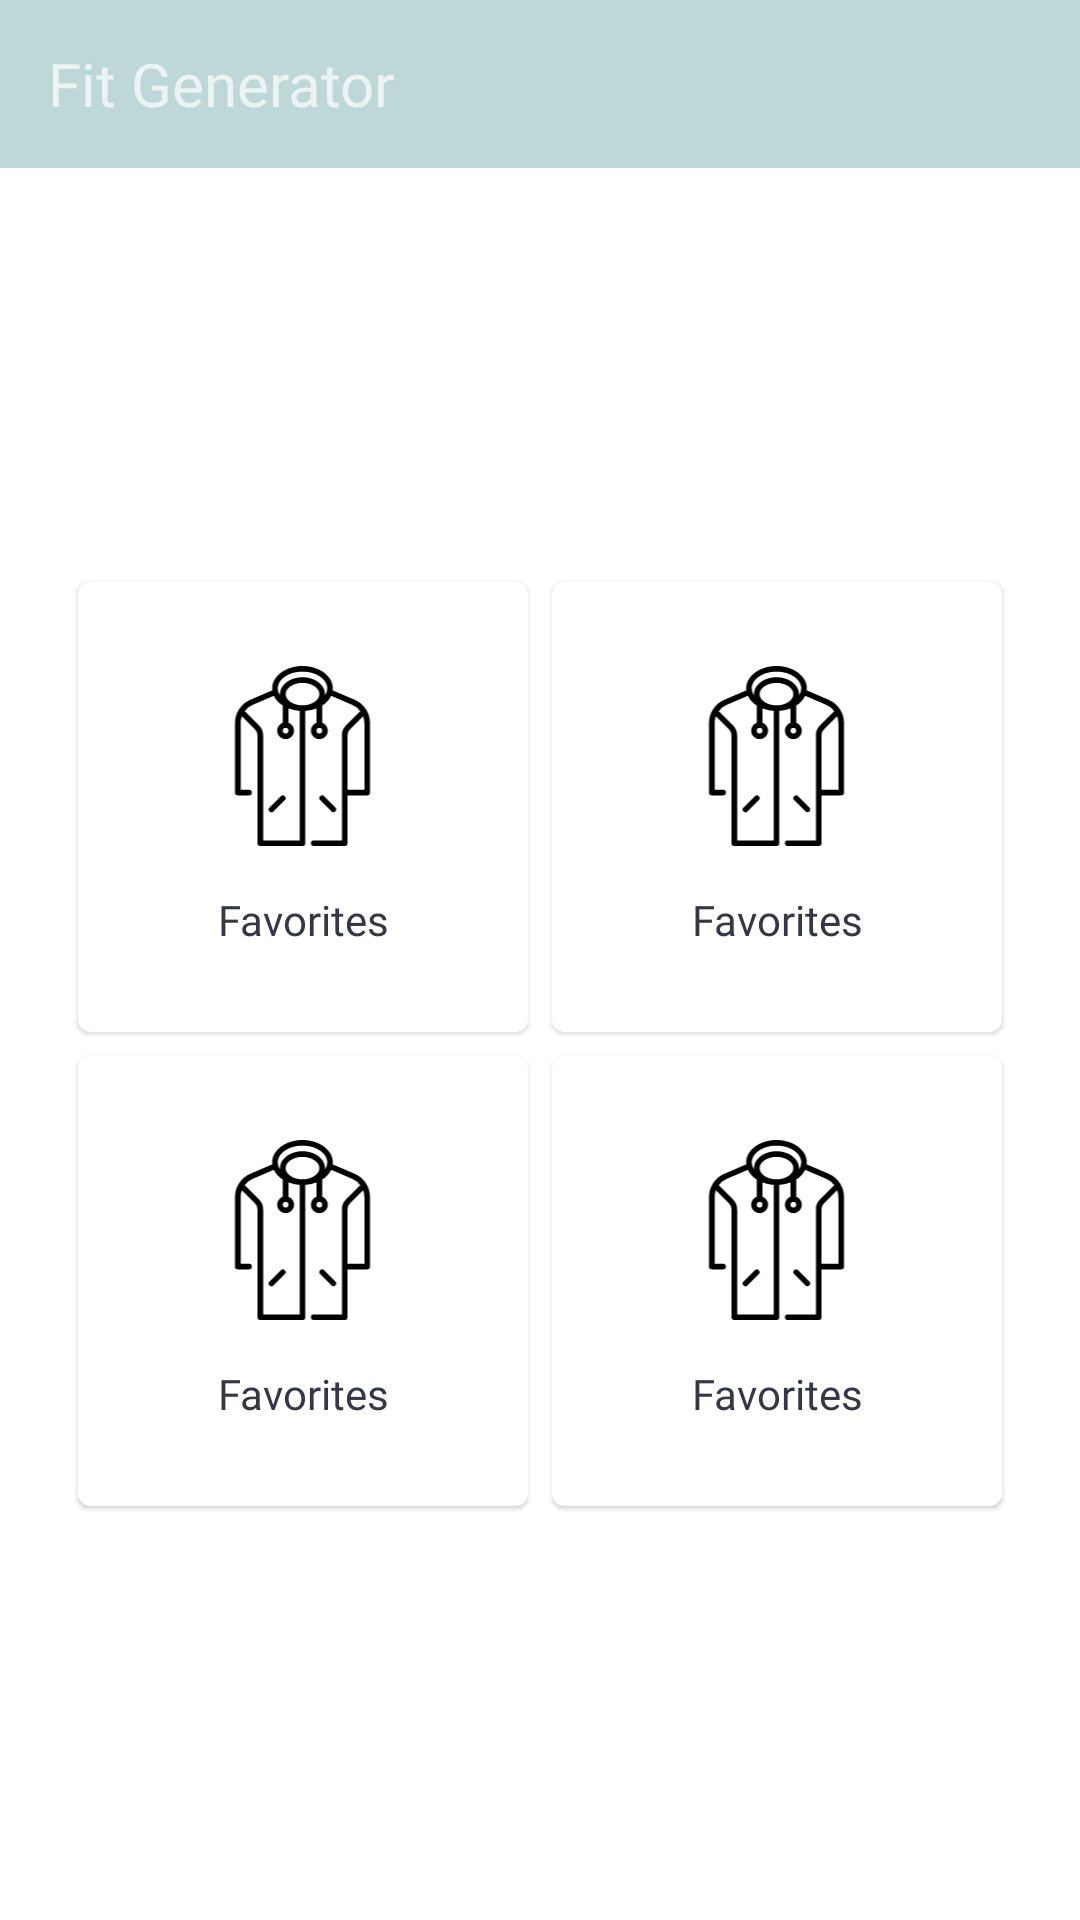

Screen size 1080×1920. Icon name, then its box in pixels as [x1,y1,x2,y2]:
jacket: [234,666,371,846], [708,666,845,846], [234,1140,371,1320], [708,1140,845,1320]
